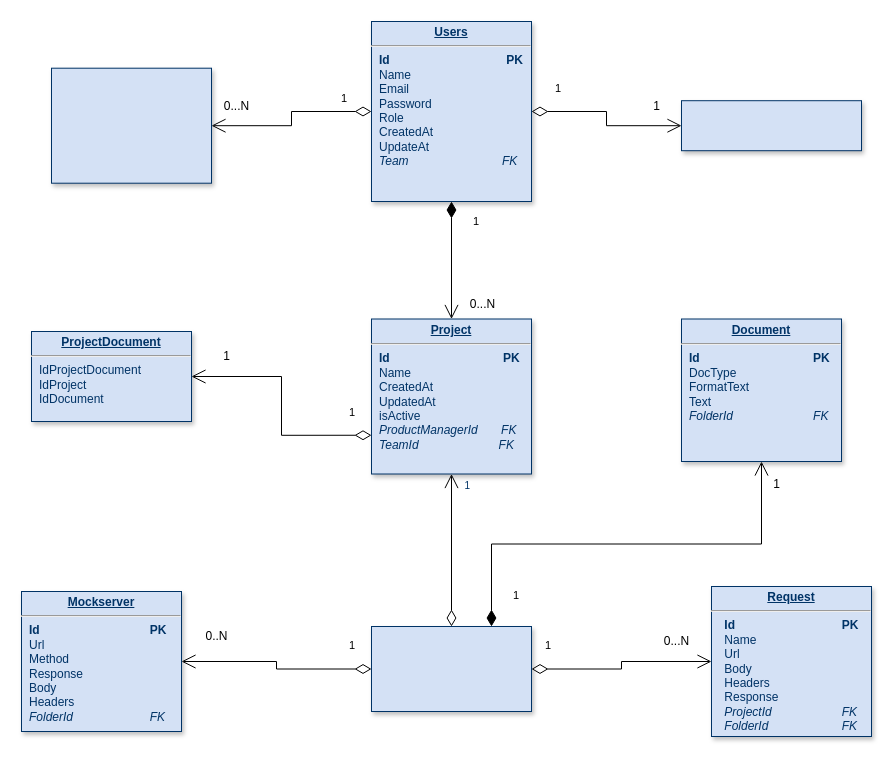
Image size: 895x761. Some labels were removed from this diagram. The centre of each missing label's shape, as x and y in pixels:
"Folders Id PK Name ProjectId FK" goes at (x=452, y=670).
"Team Id PK Name CreatedAt Projects FK Owner FK" goes at (x=132, y=126).
"UserRole Role" goes at (x=772, y=127).
